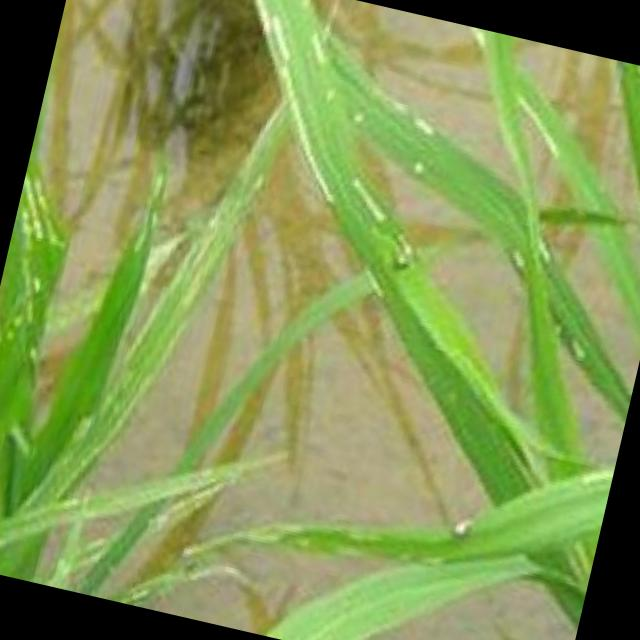rice-bug: (386, 238, 419, 276), (444, 505, 477, 543)
